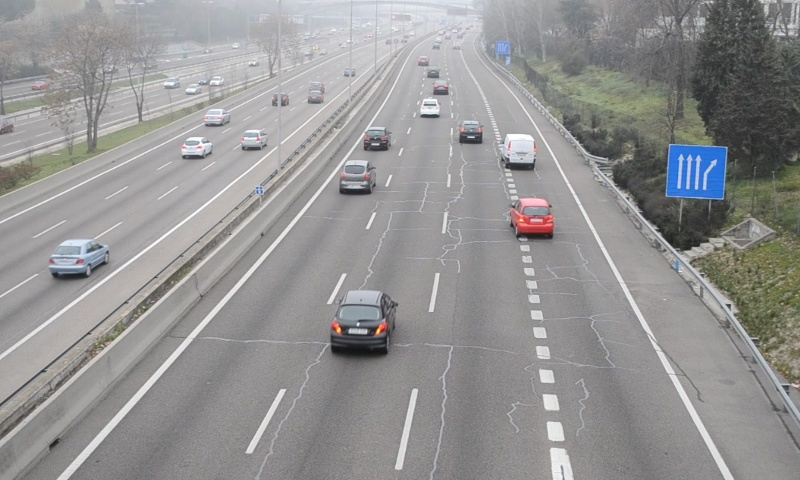car: (329, 290, 396, 353), (512, 197, 555, 234), (338, 159, 374, 190), (362, 127, 391, 149), (458, 120, 484, 143), (418, 95, 441, 116), (433, 78, 450, 94)
van: (504, 133, 537, 166)
